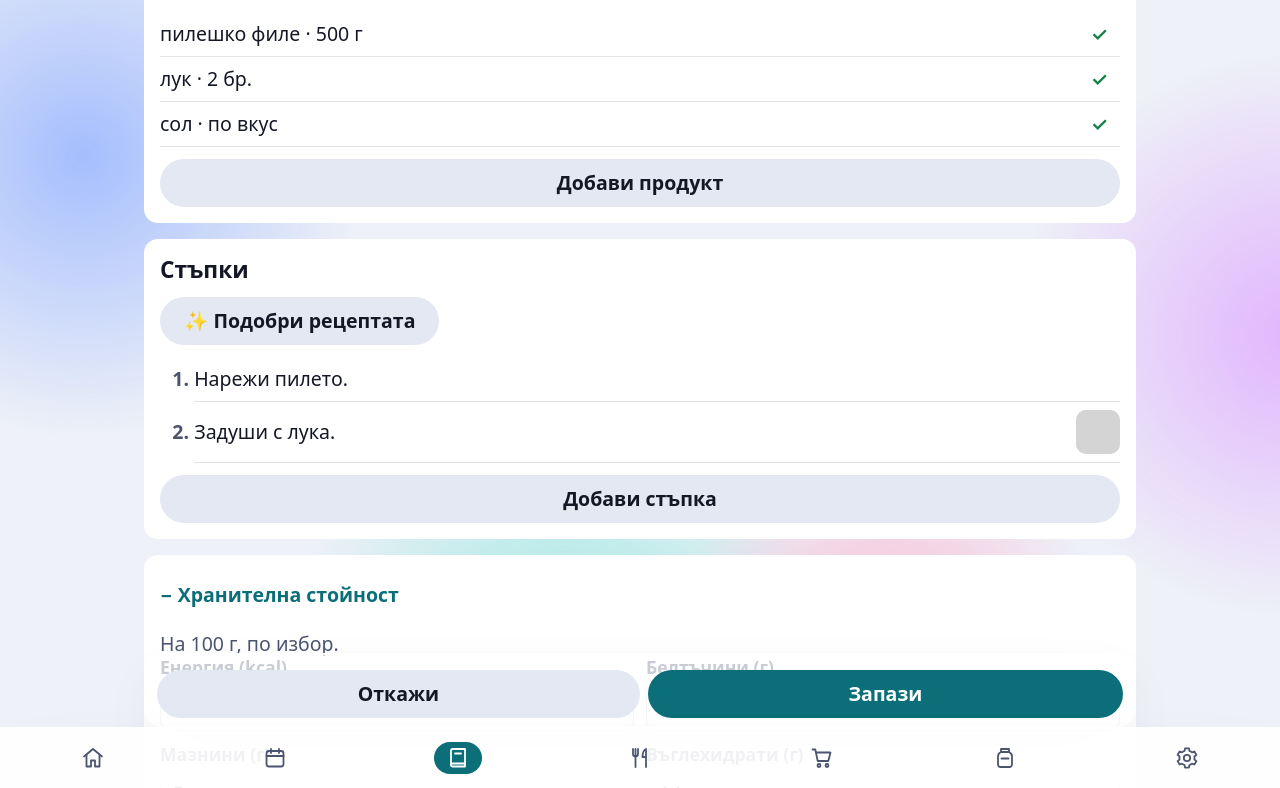
it: „Подобри рецептата“ в редакцията › без нищо за подобряване казва „Рецептата вече е наред“ с причината
(page scrolled)
Click the button "✨ Подобри рецептата" at (300, 320), box [160,296,440,344]
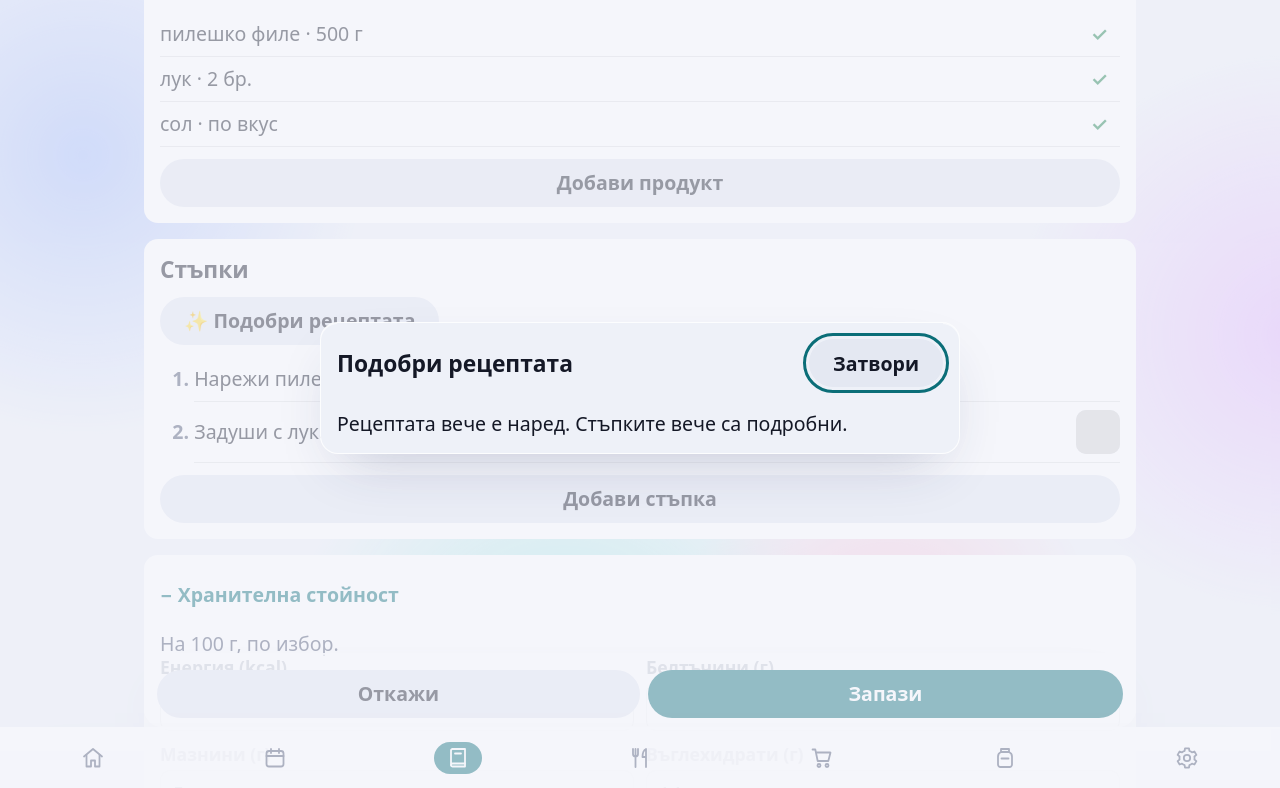
Expected: the text "Рецептата вече е наред. Стъпките вече са подробни." is shown, [337,410,847,437]
